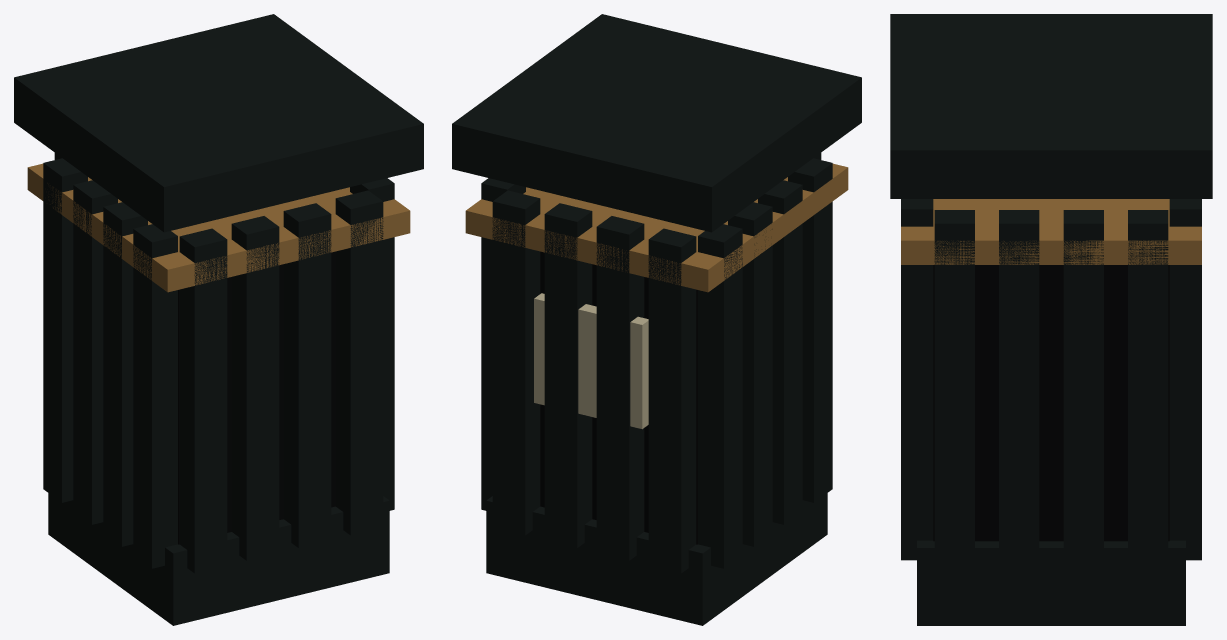
File: SM_Bogota_Caneca.fbx
3 views of the same model, side by side, from view 1: azimuth 30°, elevation 25°; view 2: azimuth 150°, elevation 25°; view 3: azimuth 270°, elevation 25° (orthographic). The views are drawn at different scales.
Visible parts, largest first — view 1: SM_Bogota_Caneca; view 2: SM_Bogota_Caneca; view 3: SM_Bogota_Caneca.
Part boxes in pixels (x1=…): SM_Bogota_Caneca: x1=14, y1=14, x2=423, y2=625; SM_Bogota_Caneca: x1=452, y1=14, x2=861, y2=625; SM_Bogota_Caneca: x1=890, y1=14, x2=1212, y2=625.
Bounding box in the file's own units: 0.6 × 0.6 × 1.
